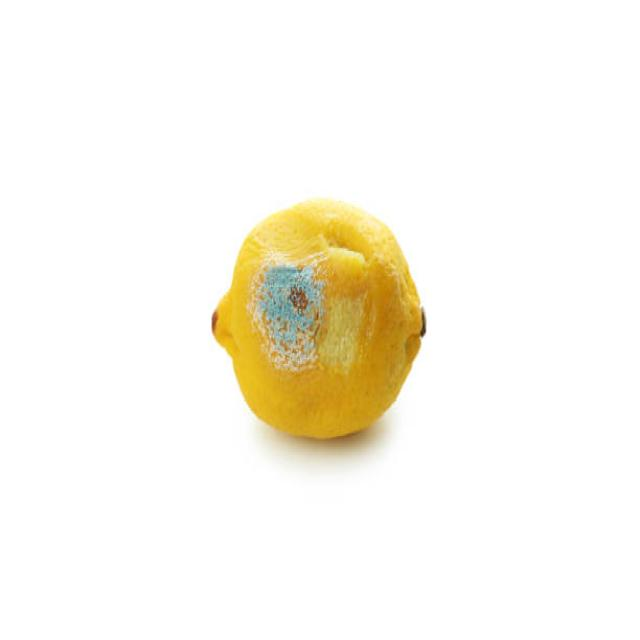Rotten: (210, 199, 430, 440)
